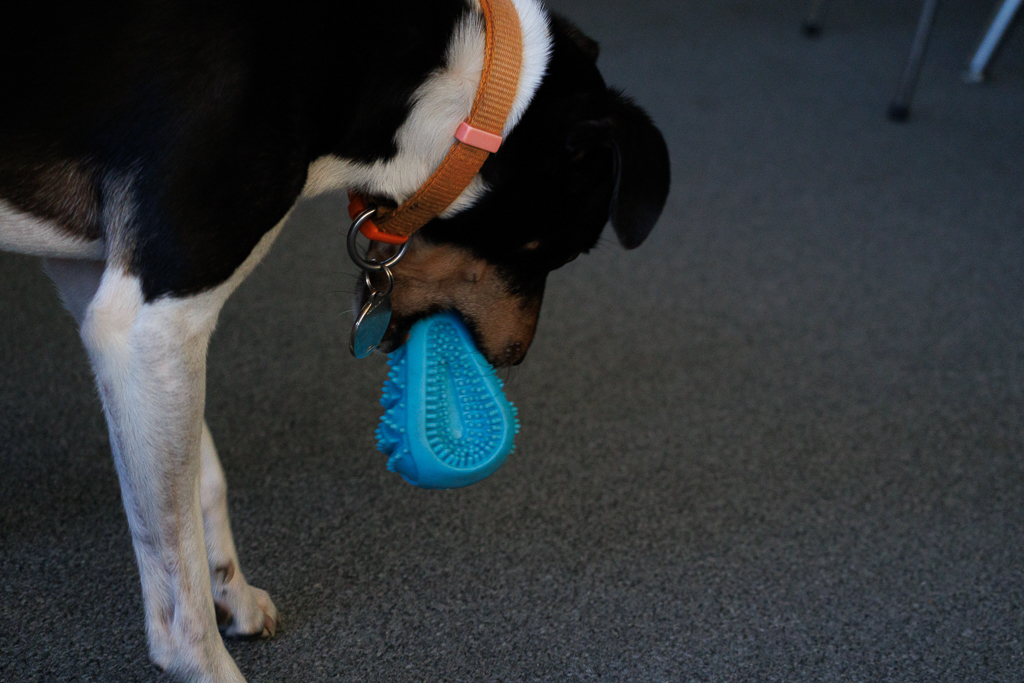Dog: (0, 0, 676, 683)
